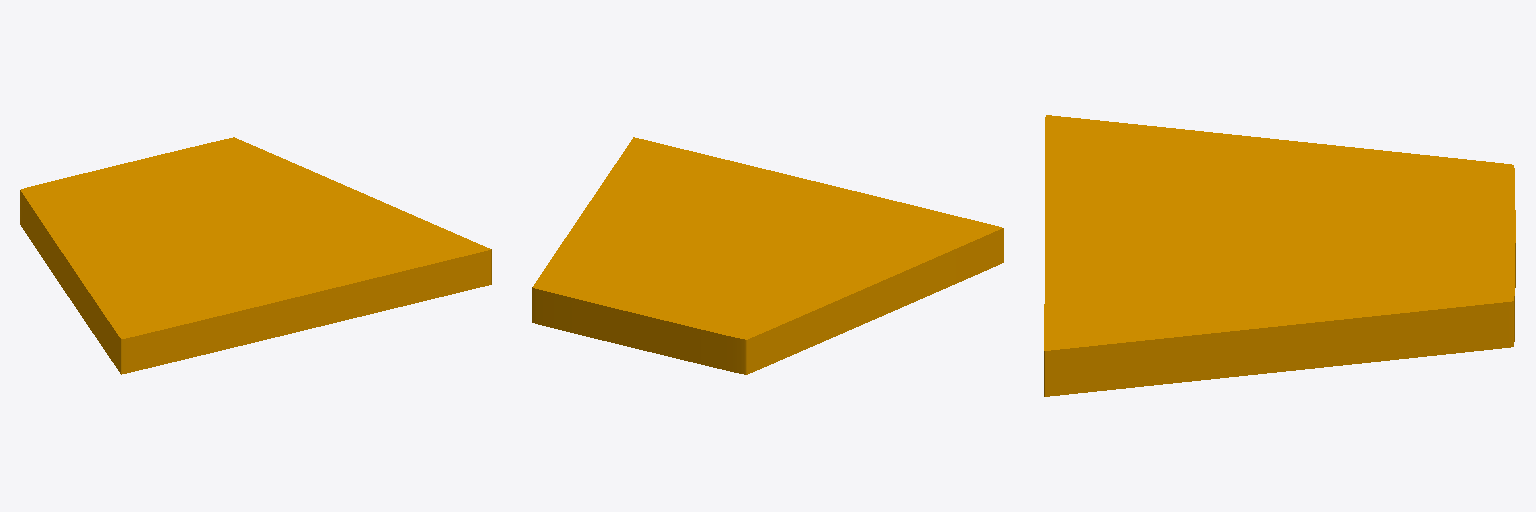
The robot description file, URDF, robot "trapezoidal.urdf":
<?xml version="1.0" encoding="utf-8"?>
<robot name="trapezoidal.urdf">
  <link name="baseLink">
    <contact>
      <lateral_friction value="0.5"/>
      <rolling_friction value="0.001"/>
      <spinning_friction value="0.001"/>
    </contact>
    <inertial>
      <origin rpy="0 0 0" xyz="0 0 0"/>
      <mass value="0.07"/>
      <inertia ixx="1" ixy="0" ixz="0" iyy="1" iyz="0" izz="1"/>
    </inertial>
    <visual>
      <origin rpy="0 0 0" xyz="0 0 0"/>
      <geometry>
        <mesh filename="trapezoidal.obj" scale="0.2 0.2 0.1"/> <!-- Scale x and y by 3.5, z by 1.0 -->
      </geometry>
    </visual>
    <collision>
      <origin rpy="0 0 0" xyz="0 0 0"/>
      <geometry>
        <mesh filename="trapezoidal.obj" scale="0.2 0.2 0.1"/> <!-- Scale x and y by 3.5, z by 1.0 -->
      </geometry>
    </collision>
  </link>
</robot>

--- Render facts (derived) ---
Views: 3 orthographic renders of the robot side by side, from view 1: azimuth 30°, elevation 25°; view 2: azimuth 150°, elevation 25°; view 3: azimuth 270°, elevation 25°.
Model trapezoidal.urdf with 1 links and 0 joints (none), rooted at baseLink, posed every joint at zero.
Visible links, largest first — view 1: baseLink; view 2: baseLink; view 3: baseLink.
Boxes of the visible links, <box> form: baseLink: <box>20,137,491,374</box>; baseLink: <box>532,137,1003,374</box>; baseLink: <box>1044,115,1515,396</box>.
Bounding box of the posed robot: 0.4342 × 0.366 × 0.0394 m (x, y, z).
1 mesh visuals loaded from 1 distinct referenced files (1 OBJ).